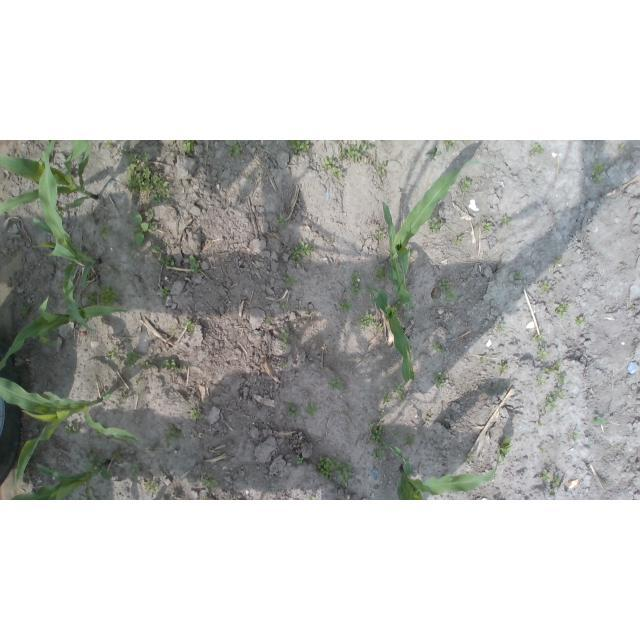Maize: (381, 158, 495, 315), (1, 375, 140, 487), (0, 260, 128, 372), (32, 140, 101, 334), (0, 141, 98, 216), (387, 441, 501, 500), (366, 284, 419, 384), (5, 460, 113, 500)
Weeds: (121, 149, 172, 206), (316, 455, 353, 485), (368, 421, 389, 459), (129, 209, 149, 248), (100, 285, 125, 308), (321, 156, 343, 181), (437, 278, 459, 302), (83, 449, 105, 471), (292, 242, 317, 261), (339, 143, 361, 163), (545, 388, 563, 410), (498, 436, 512, 462), (164, 425, 181, 445), (162, 360, 187, 373), (374, 263, 390, 283), (592, 163, 607, 184), (350, 272, 363, 296), (287, 140, 309, 154), (126, 350, 143, 367), (202, 473, 218, 491), (428, 216, 444, 234), (189, 254, 202, 276), (357, 313, 376, 328), (431, 371, 447, 388), (393, 382, 406, 402), (286, 404, 302, 420), (64, 422, 81, 437), (159, 257, 176, 272), (555, 302, 570, 319), (129, 461, 143, 479), (542, 362, 561, 375), (229, 141, 243, 158), (457, 178, 471, 194), (182, 318, 197, 332), (85, 290, 98, 306), (330, 377, 345, 390), (432, 341, 445, 356), (539, 280, 552, 295), (274, 215, 288, 228), (182, 140, 195, 154), (143, 481, 158, 493), (361, 140, 376, 152), (100, 224, 113, 237), (539, 469, 552, 482), (534, 373, 546, 387), (141, 358, 156, 369), (339, 301, 354, 312), (376, 161, 387, 176), (426, 149, 442, 159), (107, 348, 119, 361), (306, 404, 319, 416), (404, 434, 417, 446), (536, 348, 548, 361), (554, 372, 566, 385), (531, 142, 544, 154), (190, 407, 201, 421), (591, 415, 605, 426), (54, 205, 66, 217), (283, 276, 295, 288), (481, 221, 494, 232), (532, 333, 545, 344), (148, 221, 158, 235), (279, 329, 289, 343), (373, 230, 385, 241), (568, 430, 580, 441), (161, 286, 171, 299), (552, 471, 560, 487), (445, 141, 456, 152), (117, 147, 130, 156), (146, 205, 154, 219), (103, 140, 117, 148), (19, 305, 29, 316), (501, 215, 512, 225), (575, 316, 586, 326), (150, 244, 162, 253), (381, 393, 391, 403), (497, 364, 508, 373), (512, 270, 523, 279), (295, 455, 304, 465), (391, 430, 400, 440), (113, 452, 124, 460), (118, 394, 126, 405), (375, 323, 384, 332), (466, 454, 475, 463), (35, 157, 45, 165), (280, 301, 287, 312), (94, 429, 102, 438), (454, 235, 463, 243), (479, 354, 487, 363), (497, 322, 506, 330), (555, 256, 564, 264), (265, 315, 272, 325), (539, 445, 549, 452), (620, 262, 631, 268), (380, 410, 387, 419), (278, 362, 288, 368), (170, 326, 177, 333), (138, 389, 146, 395), (408, 248, 413, 257), (618, 144, 625, 150), (421, 434, 428, 440), (549, 487, 556, 493), (538, 420, 545, 426), (85, 437, 91, 443), (281, 343, 287, 349), (171, 140, 177, 146), (462, 275, 467, 282), (426, 411, 431, 418), (204, 495, 211, 500), (615, 446, 622, 451), (307, 310, 312, 315), (463, 141, 468, 144), (227, 498, 232, 500)
